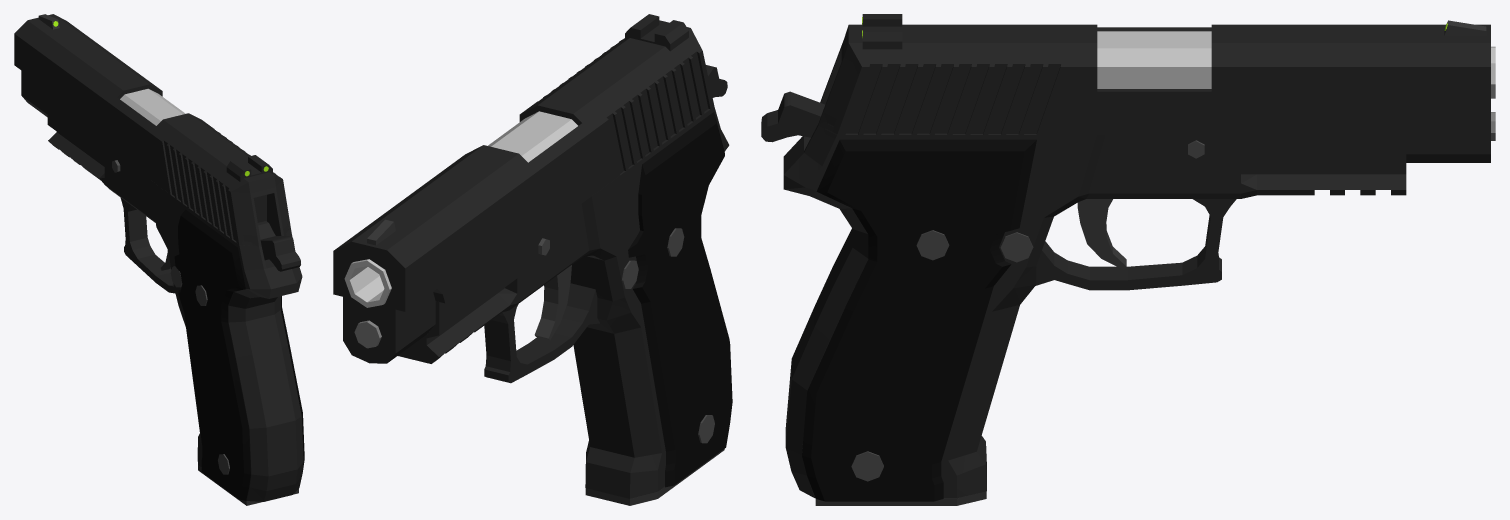
3 views of the same model, side by side, from view 1: azimuth 30°, elevation 25°; view 2: azimuth 150°, elevation 25°; view 3: azimuth 270°, elevation 25° (orthographic). The views are drawn at different scales.
Visible parts, largest first — view 1: slide, Body, Grip_Left, Hammer, Barrel, Rear_Sight, Grip_Right; view 2: slide, Body, Grip_Left, Barrel, Trigger, Rear_Sight, Magazine, Spring; view 3: slide, Grip_Right, Body, Barrel, Hammer, Trigger, Rear_Sight, Magazine.
Part boxes in pixels (x1=…): slide: x1=14, y1=14, x2=291, y2=245; Body: x1=47, y1=105, x2=303, y2=501; Grip_Left: x1=174, y1=209, x2=250, y2=500; Hammer: x1=258, y1=221, x2=300, y2=271; Barrel: x1=120, y1=88, x2=185, y2=125; Rear_Sight: x1=226, y1=155, x2=272, y2=181; Grip_Right: x1=281, y1=296, x2=304, y2=487; slide: x1=333, y1=20, x2=714, y2=363; Body: x1=398, y1=106, x2=729, y2=498; Grip_Left: x1=628, y1=112, x2=732, y2=487; Barrel: x1=344, y1=111, x2=577, y2=307; Trigger: x1=534, y1=265, x2=571, y2=339; Rear_Sight: x1=625, y1=14, x2=688, y2=51; Magazine: x1=585, y1=449, x2=724, y2=505; Spring: x1=354, y1=320, x2=381, y2=348; slide: x1=823, y1=24, x2=1490, y2=162; Grip_Right: x1=802, y1=139, x2=1036, y2=501; Body: x1=783, y1=94, x2=1406, y2=498; Barrel: x1=1097, y1=31, x2=1495, y2=98; Hammer: x1=761, y1=91, x2=824, y2=142; Trigger: x1=1077, y1=199, x2=1126, y2=269; Rear_Sight: x1=862, y1=14, x2=902, y2=49; Magazine: x1=815, y1=491, x2=986, y2=505.
Bounding box in the file's own units: 2.66 × 12.93 × 18.51.
1 material, 1 textured.
